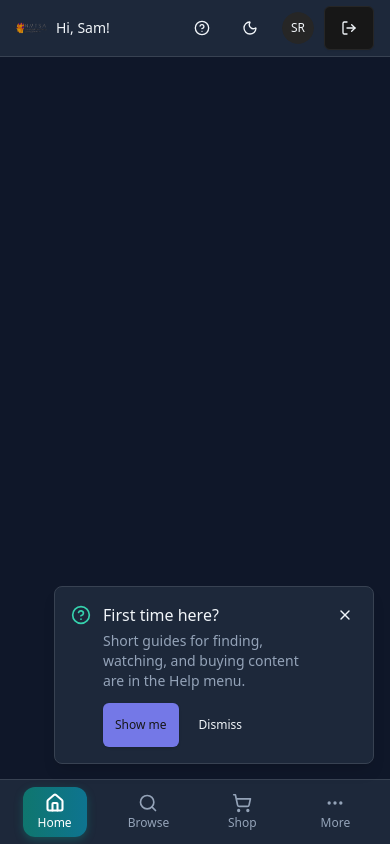
Scenario: ClientLayout guides › opens the guides launcher from the header help button
Click the button named "help and guides": click(202, 28) [180,6,224,50]
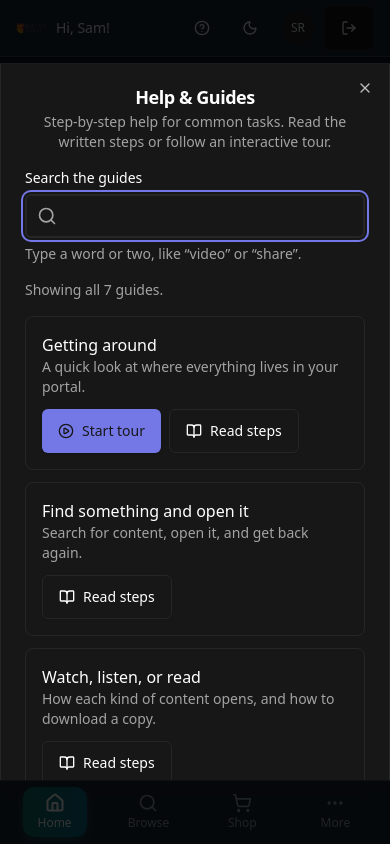
Expected: the heading "Getting around" is shown, [42,334,157,356]
